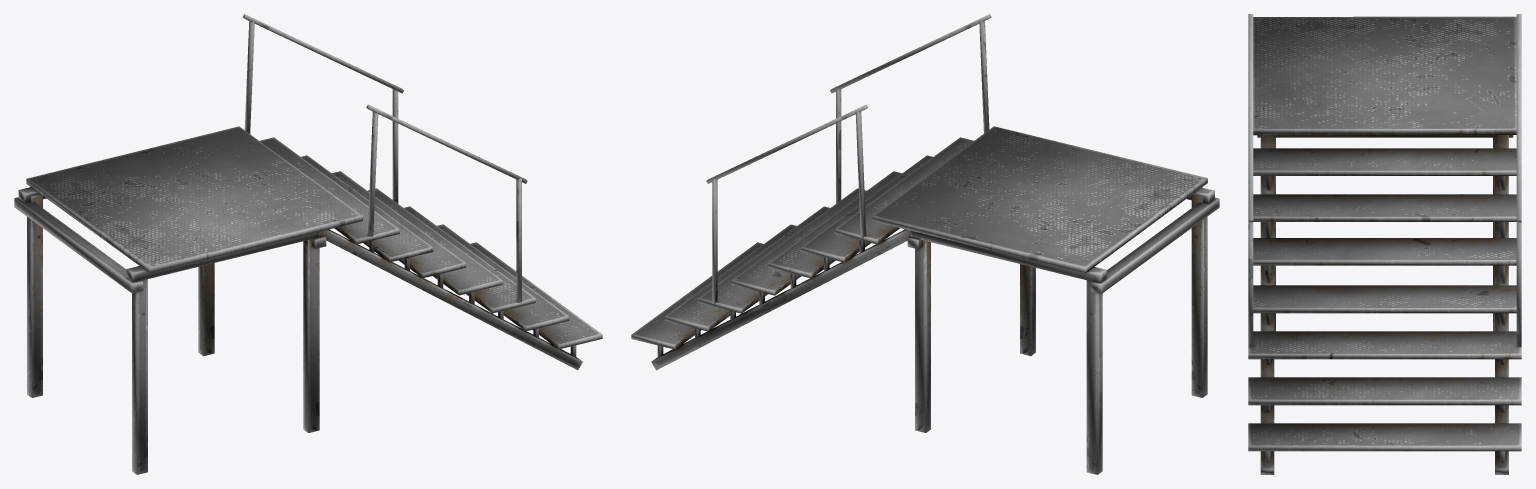
Rendered from stairsMiddle.fbx.
The picture shows the model from 3 angles, left to right: view 1: azimuth 30°, elevation 25°; view 2: azimuth 150°, elevation 25°; view 3: azimuth 270°, elevation 25°; orthographic projection. The views are drawn at different scales.
Visible parts, largest first — view 1: starisMiddle; view 2: starisMiddle; view 3: starisMiddle.
Part boxes in pixels (<box>): starisMiddle: <box>14,14,602,474</box>; starisMiddle: <box>631,14,1219,474</box>; starisMiddle: <box>1248,14,1521,474</box>.
Bounding box in the file's own units: 5.42 × 3.56 × 2.54.
